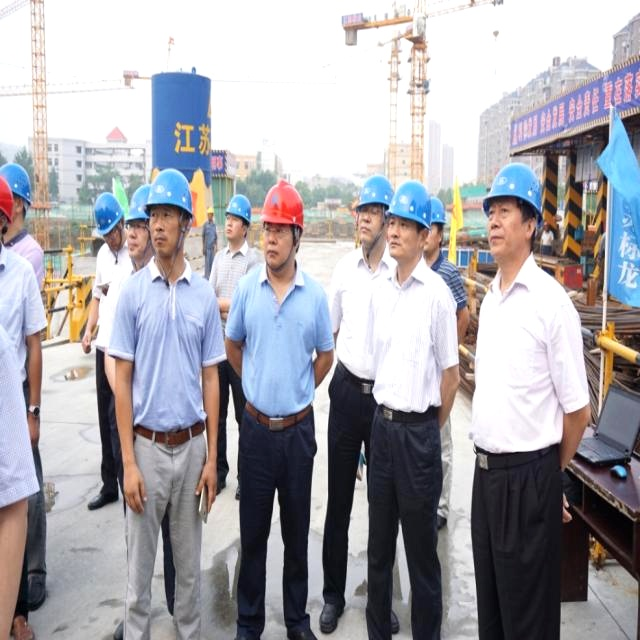Con_Casco: (485, 163, 543, 266), (263, 180, 305, 264)
Sin_Chaleco: (117, 255, 213, 433), (373, 263, 454, 413), (238, 268, 320, 416)
